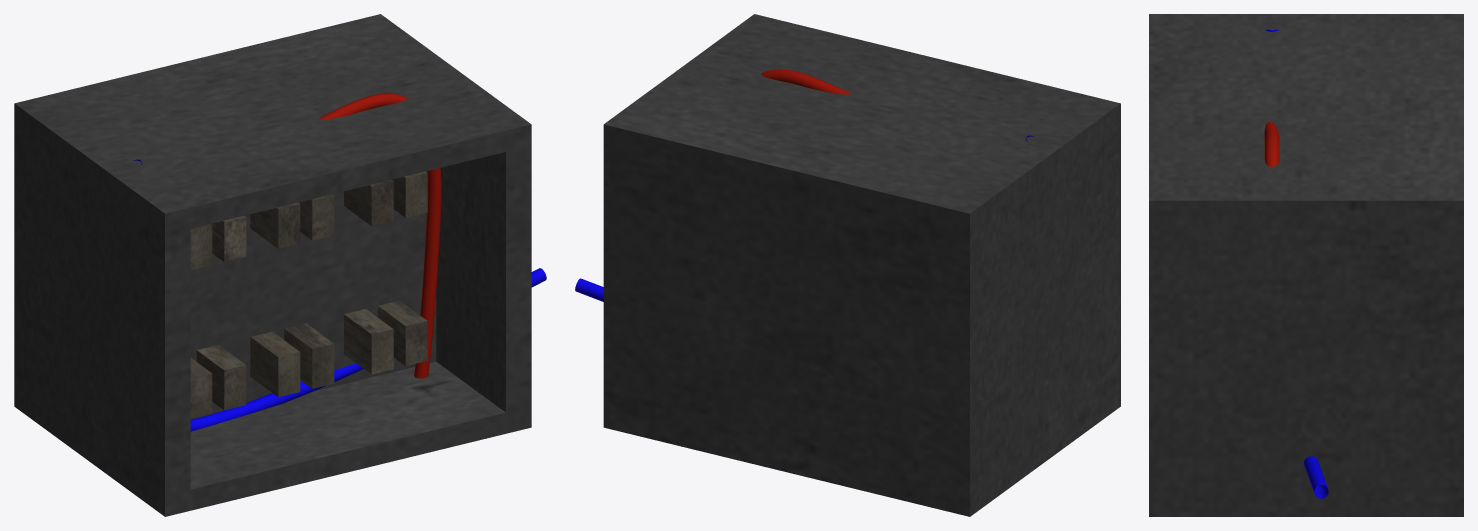
Rendered from Fusebox.fbx.
3 renders of one model, left to right at view 1: azimuth 30°, elevation 25°; view 2: azimuth 150°, elevation 25°; view 3: azimuth 270°, elevation 25°, orthographic. The views are drawn at different scales.
Parts seen in each view (by area): view 1: FuseBox; view 2: FuseBox; view 3: FuseBox.
Part boxes in pixels (left/top/right/bottom): FuseBox: left=14, top=14, right=546, bottom=516; FuseBox: left=575, top=14, right=1120, bottom=516; FuseBox: left=1149, top=14, right=1463, bottom=516.
Bounding box in the file's own units: 75.52 × 50.24 × 42.78.
